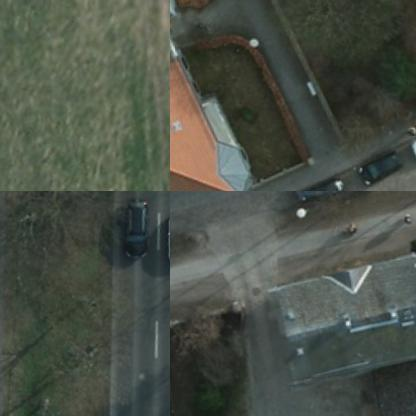car: (115, 204, 154, 272), (348, 151, 401, 190), (289, 191, 343, 210), (155, 213, 169, 281), (295, 178, 341, 190)
